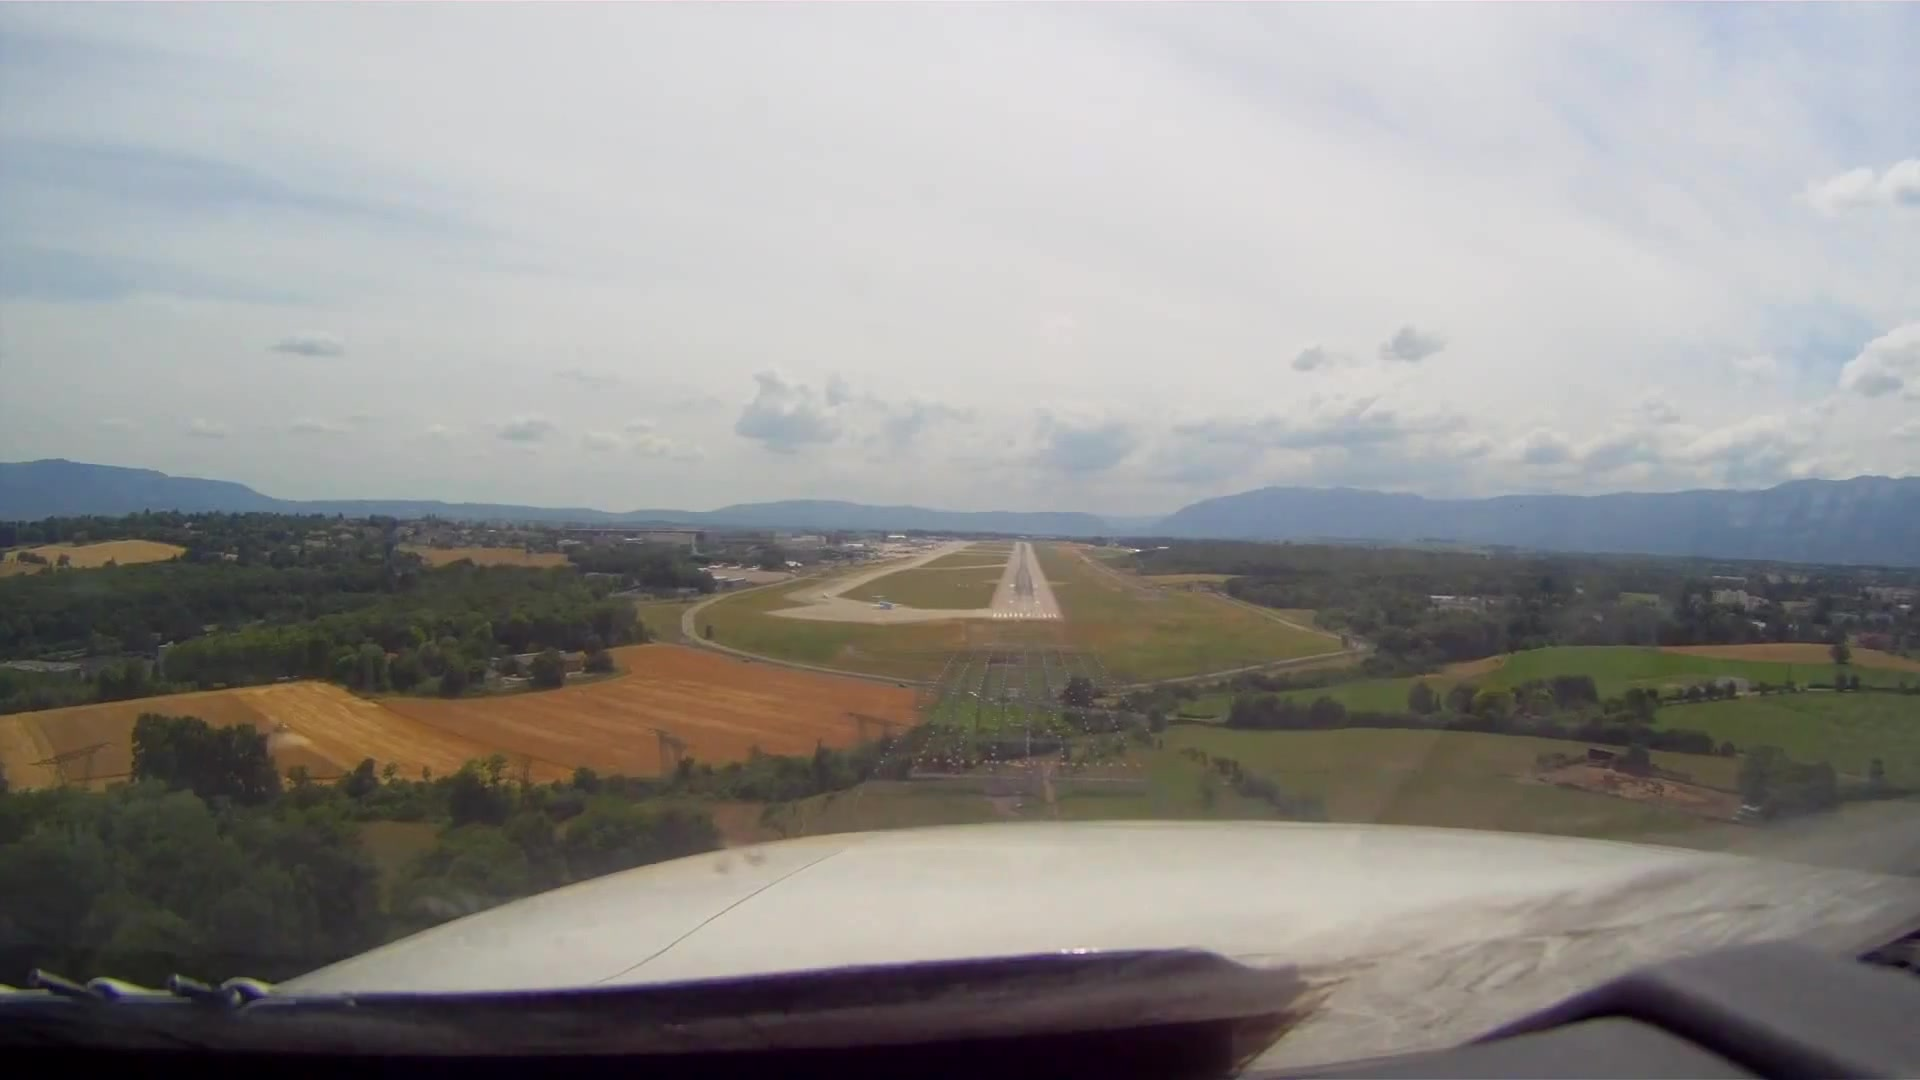entrance: (988, 609, 1060, 620)
runway: (986, 539, 1072, 626)
